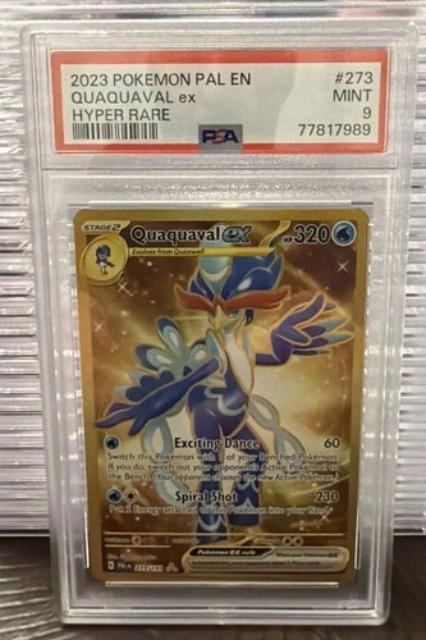Card: (72, 202, 370, 589)
Name: (127, 219, 252, 248)
